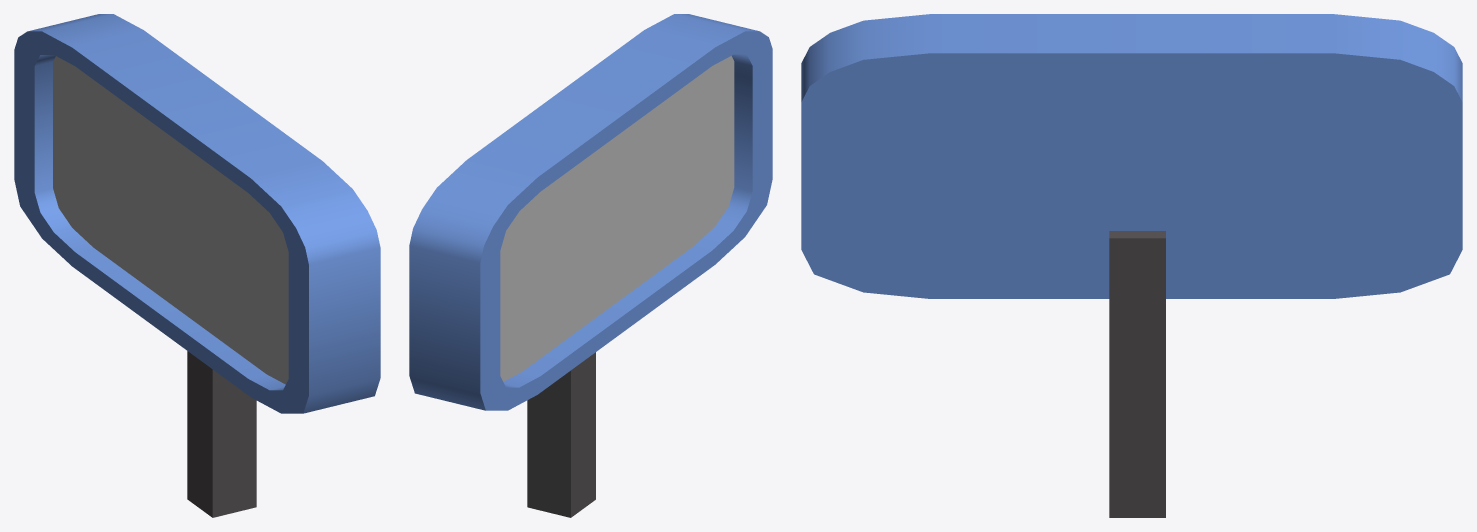
The model's file is cartel.fbx.
3 views of the same model, side by side, from view 1: azimuth 30°, elevation 25°; view 2: azimuth 150°, elevation 25°; view 3: azimuth 270°, elevation 25° (orthographic). The views are drawn at different scales.
Parts seen in each view (by area): view 1: Cube.019; view 2: Cube.019; view 3: Cube.019.
Boxes of the visible parts, x1,y1,x2,y2 form: Cube.019: (14, 14, 380, 517); Cube.019: (409, 14, 772, 517); Cube.019: (801, 14, 1462, 517).
Bounding box in the file's own units: 80.95 × 372 × 488.
